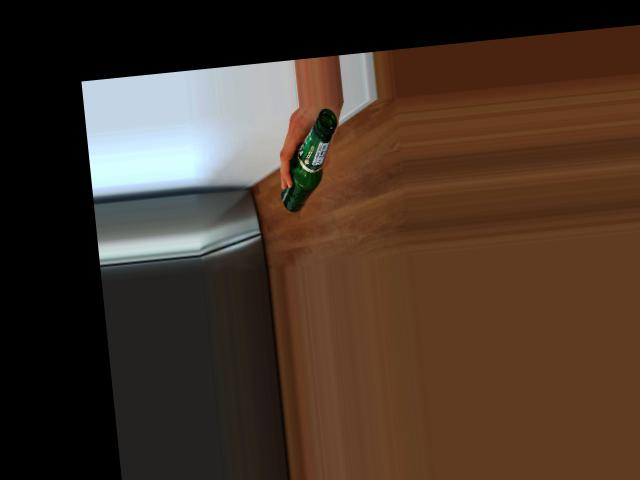beer: (273, 107, 346, 212)
